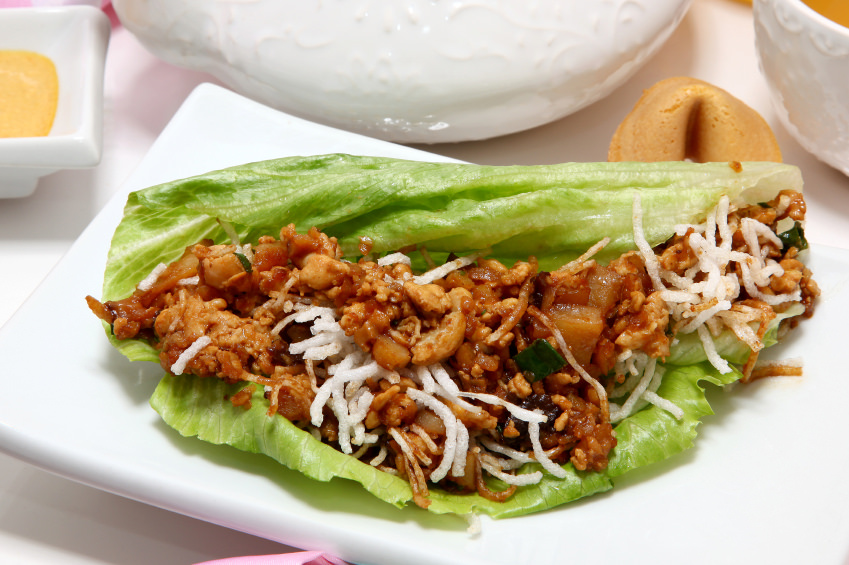chopped lettuce: (107, 148, 797, 262)
